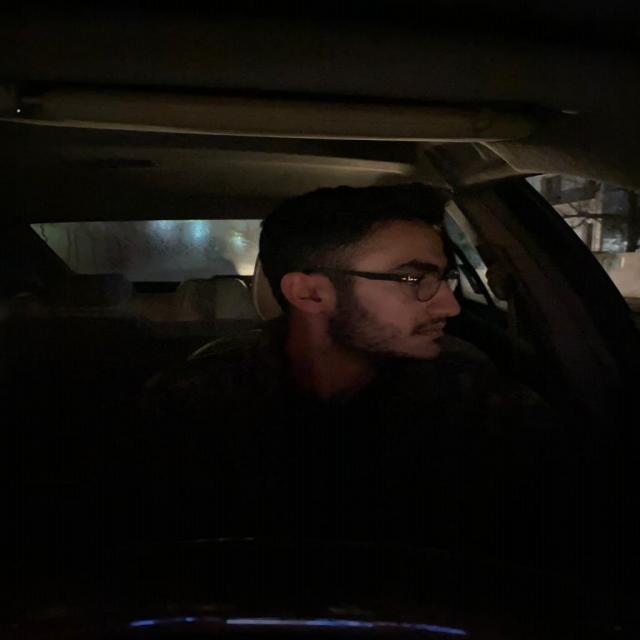LeftRight: (248, 164, 479, 374)
